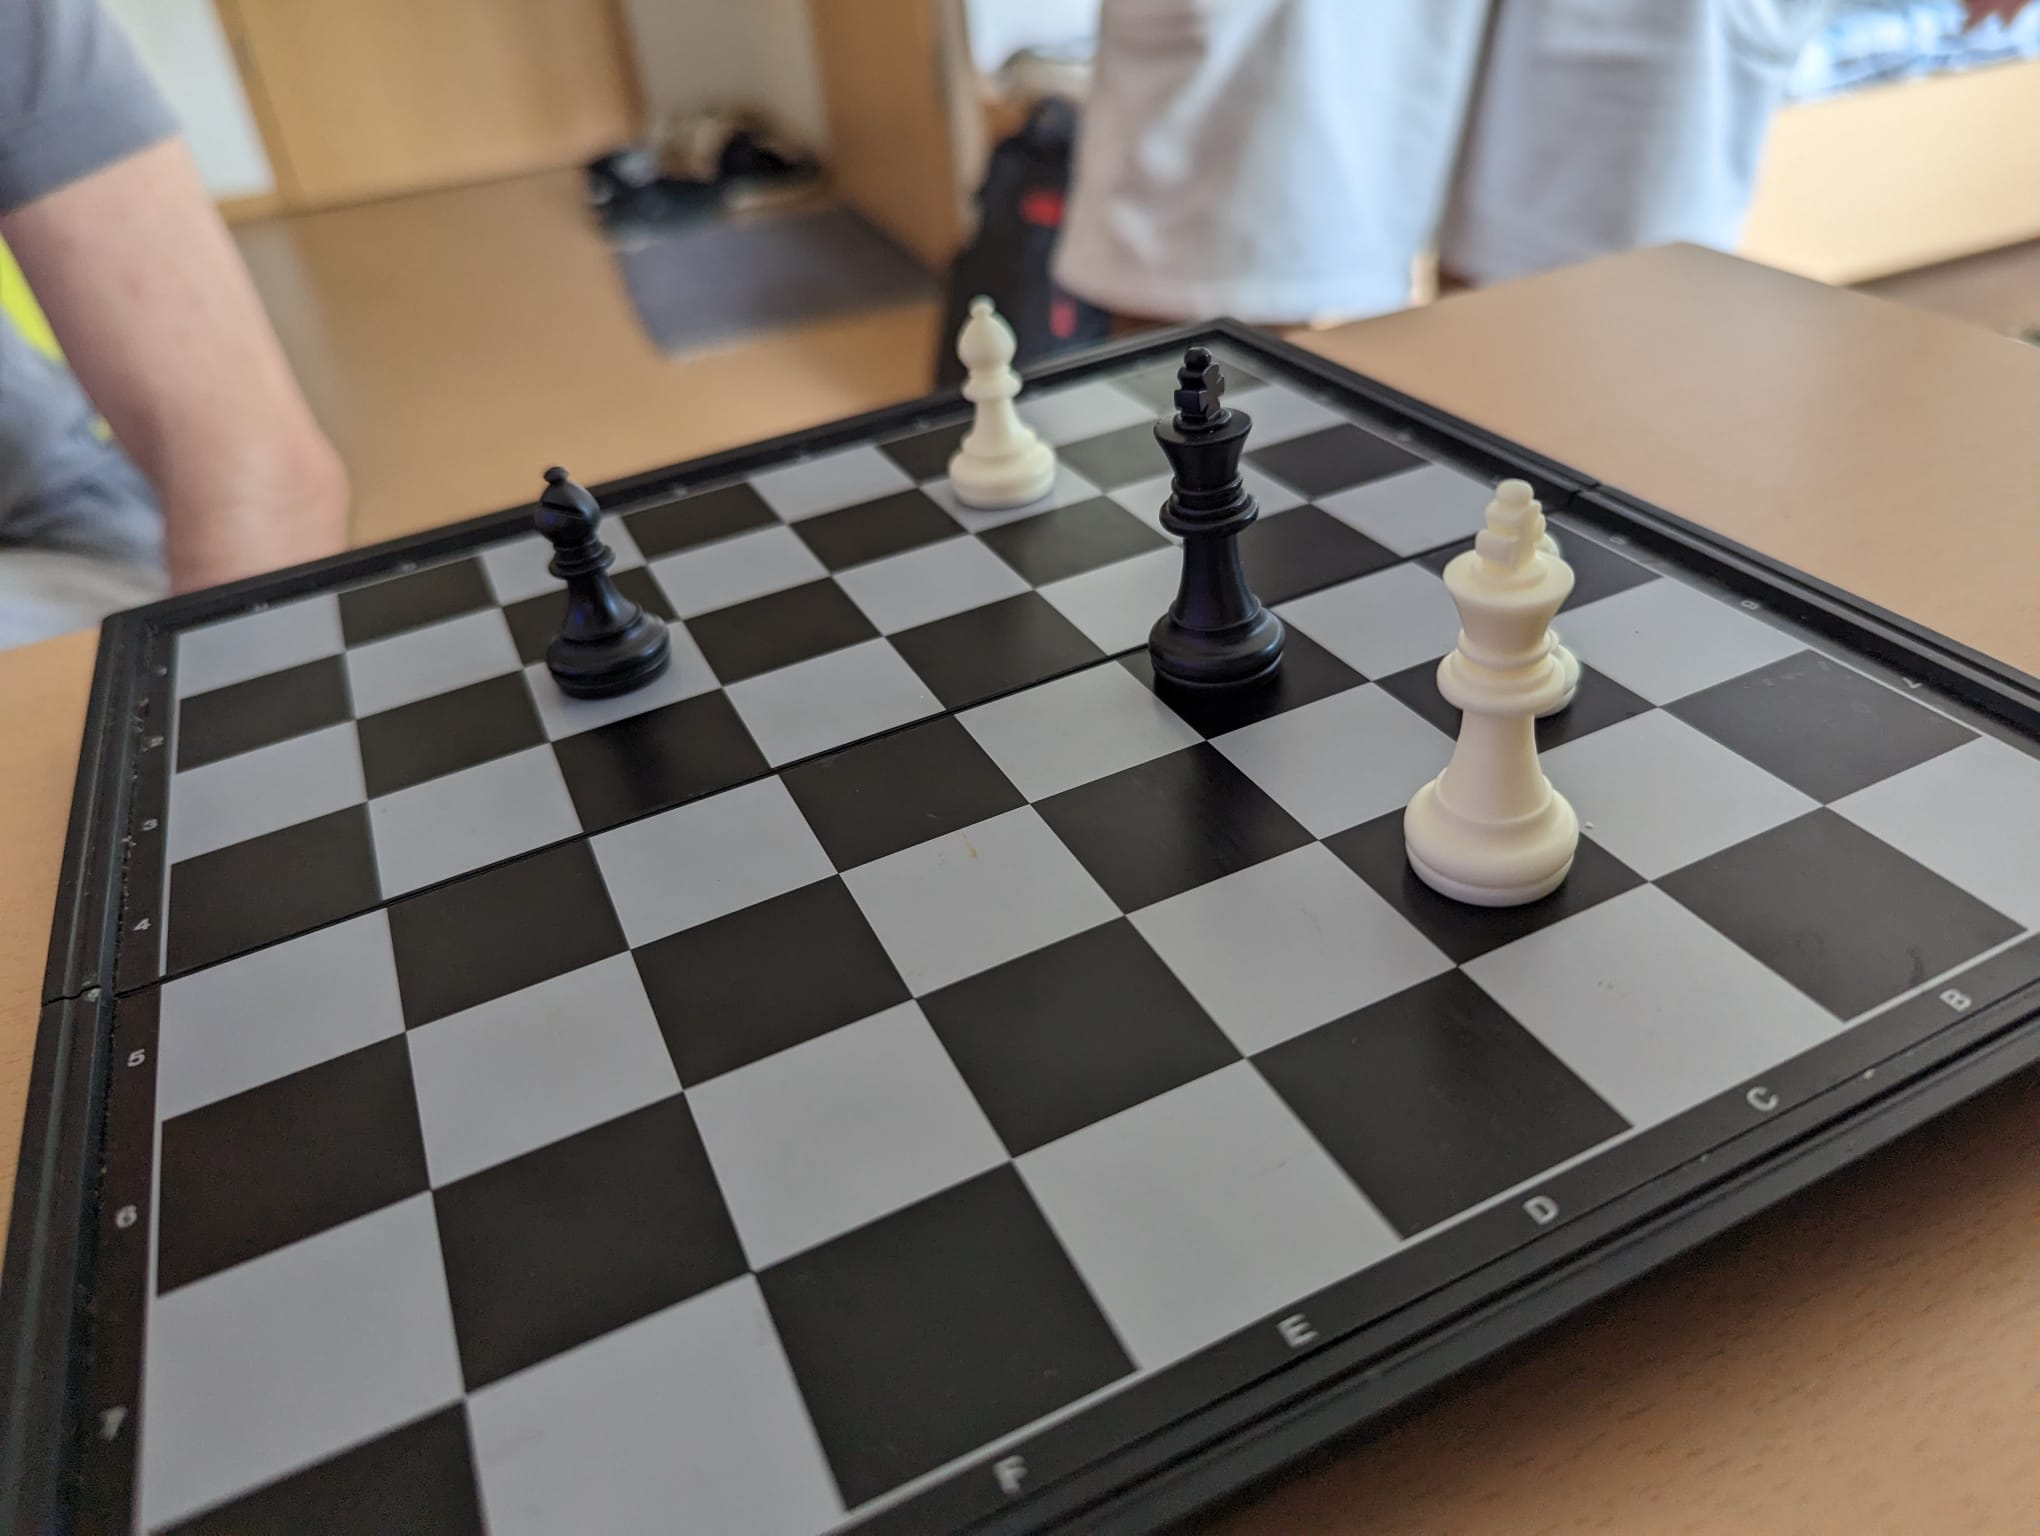BB: (534, 460, 676, 702)
BK: (1148, 347, 1285, 691)
WB: (945, 298, 1055, 502)
WK: (1409, 476, 1577, 897)
